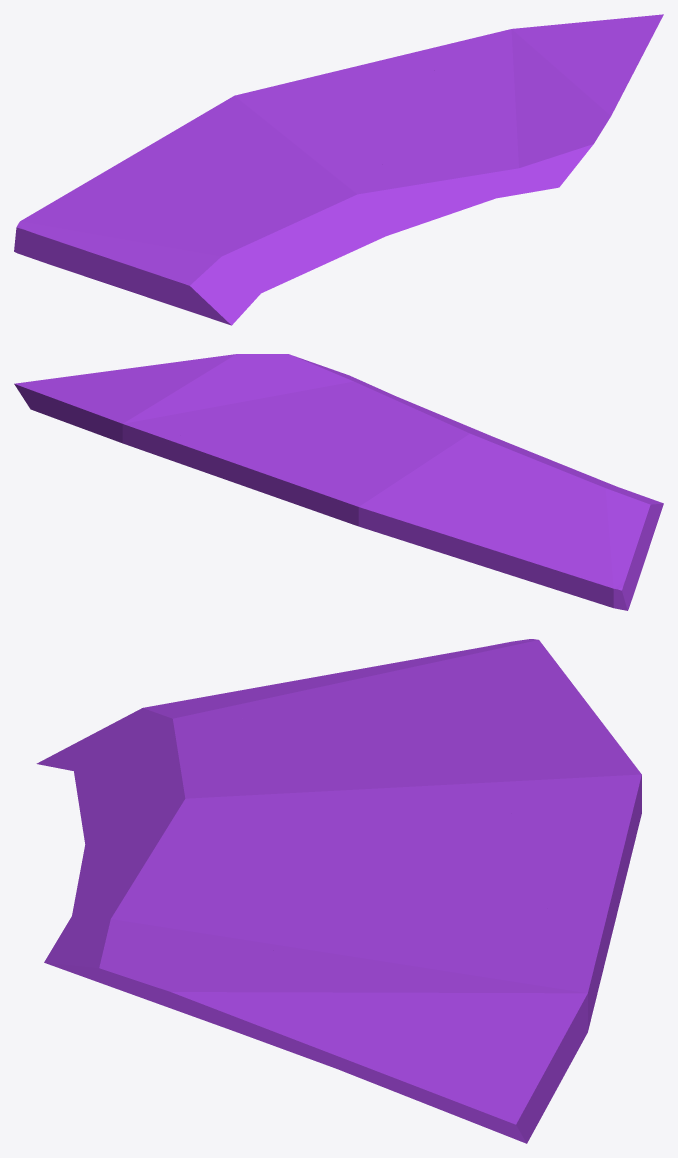
File: Glass_101_2_8_chunks.fbx
The picture shows the model from 3 angles, top to bottom: view 1: azimuth 30°, elevation 25°; view 2: azimuth 150°, elevation 25°; view 3: azimuth 270°, elevation 25°; orthographic projection. The views are drawn at different scales.
Visible parts, largest first — view 1: Glass_101_2_8_9, Glass_101_2_8_2, Glass_101_2_8_0, Glass_101_2_8_10, Glass_101_2_8_20, Glass_101_2_8_13, Glass_101_2_8_1, Glass_101_2_8_18, Glass_101_2_8_14, Glass_101_2_8_15, Glass_101_2_8_16, Glass_101_2_8_11 (+9 smaller); view 2: Glass_101_2_8_10, Glass_101_2_8_9, Glass_101_2_8_20, Glass_101_2_8_12, Glass_101_2_8_13, Glass_101_2_8_2, Glass_101_2_8_18, Glass_101_2_8_7, Glass_101_2_8_5, Glass_101_2_8_0, Glass_101_2_8_21, Glass_101_2_8_1 (+9 smaller); view 3: Glass_101_2_8_20, Glass_101_2_8_9, Glass_101_2_8_10, Glass_101_2_8_2, Glass_101_2_8_18, Glass_101_2_8_13, Glass_101_2_8_15, Glass_101_2_8_21, Glass_101_2_8_0, Glass_101_2_8_19, Glass_101_2_8_8, Glass_101_2_8_14 (+9 smaller).
Boxes of the visible parts, left/top/right/bottom form: Glass_101_2_8_9: left=293, top=67, right=461, bottom=193; Glass_101_2_8_2: left=211, top=173, right=390, bottom=270; Glass_101_2_8_0: left=133, top=235, right=311, bottom=325; Glass_101_2_8_10: left=148, top=81, right=315, bottom=168; Glass_101_2_8_20: left=536, top=14, right=663, bottom=92; Glass_101_2_8_13: left=134, top=136, right=310, bottom=208; Glass_101_2_8_1: left=39, top=207, right=174, bottom=292; Glass_101_2_8_18: left=433, top=67, right=556, bottom=117; Glass_101_2_8_14: left=331, top=164, right=434, bottom=234; Glass_101_2_8_15: left=456, top=132, right=594, bottom=185; Glass_101_2_8_16: left=425, top=163, right=560, bottom=221; Glass_101_2_8_11: left=14, top=190, right=168, bottom=260; Glass_101_2_8_10: left=309, top=467, right=493, bottom=564; Glass_101_2_8_9: left=223, top=419, right=476, bottom=468; Glass_101_2_8_20: left=14, top=361, right=195, bottom=423; Glass_101_2_8_12: left=461, top=535, right=623, bottom=607; Glass_101_2_8_13: left=394, top=466, right=548, bottom=539; Glass_101_2_8_2: left=457, top=435, right=570, bottom=501; Glass_101_2_8_18: left=179, top=388, right=280, bottom=441; Glass_101_2_8_7: left=203, top=446, right=300, bottom=492; Glass_101_2_8_5: left=70, top=424, right=241, bottom=479; Glass_101_2_8_0: left=567, top=466, right=663, bottom=551; Glass_101_2_8_21: left=79, top=402, right=224, bottom=442; Glass_101_2_8_1: left=546, top=517, right=647, bottom=598; Glass_101_2_8_20: left=252, top=983, right=566, bottom=1143; Glass_101_2_8_9: left=222, top=777, right=538, bottom=919; Glass_101_2_8_10: left=428, top=714, right=641, bottom=837; Glass_101_2_8_2: left=78, top=728, right=365, bottom=847; Glass_101_2_8_18: left=264, top=914, right=530, bottom=985; Glass_101_2_8_13: left=333, top=700, right=530, bottom=800; Glass_101_2_8_15: left=46, top=880, right=290, bottom=1009; Glass_101_2_8_21: left=428, top=919, right=589, bottom=1077; Glass_101_2_8_0: left=36, top=685, right=271, bottom=800; Glass_101_2_8_19: left=160, top=953, right=355, bottom=1058; Glass_101_2_8_8: left=104, top=891, right=365, bottom=997; Glass_101_2_8_14: left=80, top=787, right=261, bottom=871.
Size of the model in its own units: 1467 by 187 by 626.
